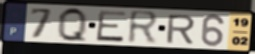6: (200, 13, 226, 48)
7: (28, 8, 55, 40)
E: (95, 10, 129, 44)
Q: (56, 6, 89, 45)
R: (126, 9, 162, 46), (165, 14, 197, 45)
